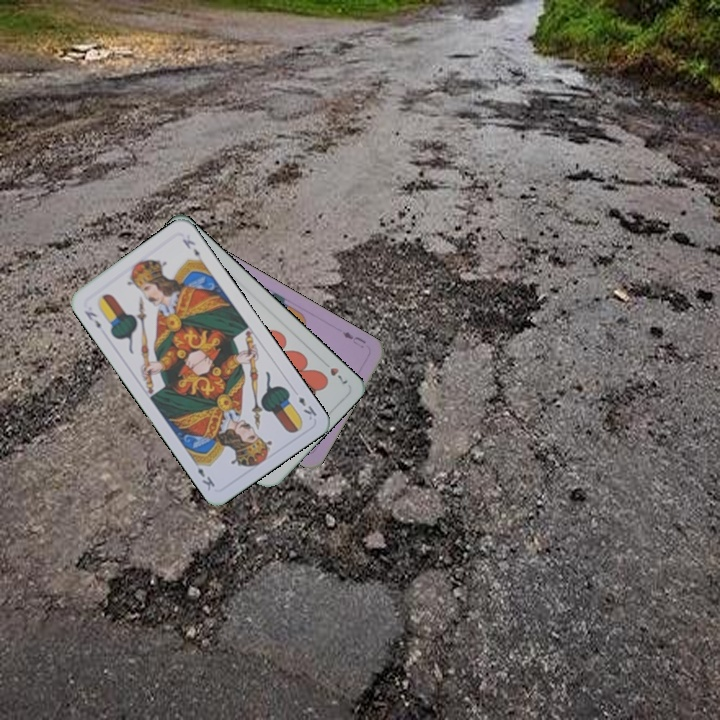EK: (289, 385, 320, 422), (80, 306, 104, 331)
EU: (338, 327, 369, 351)
H7: (317, 356, 350, 387)
